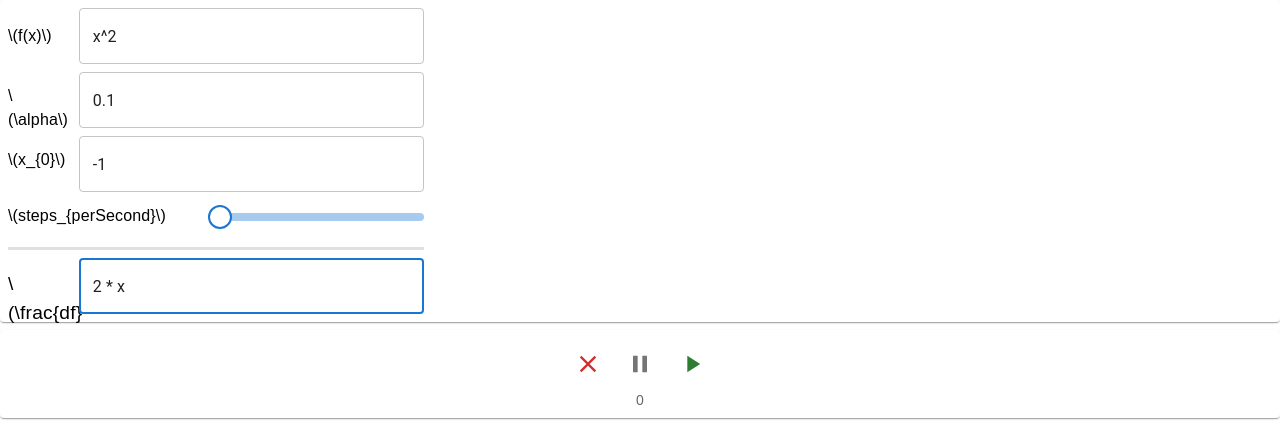
Scenario: Testing Gradient Descent 1D Pages › Visualization page › When handling events › When user enters input › Should update the function and its df
This screenshot has width=1280, height=437.
Replace the text in the 1st field with "x^3" at (251, 36), box [79,8,424,64]
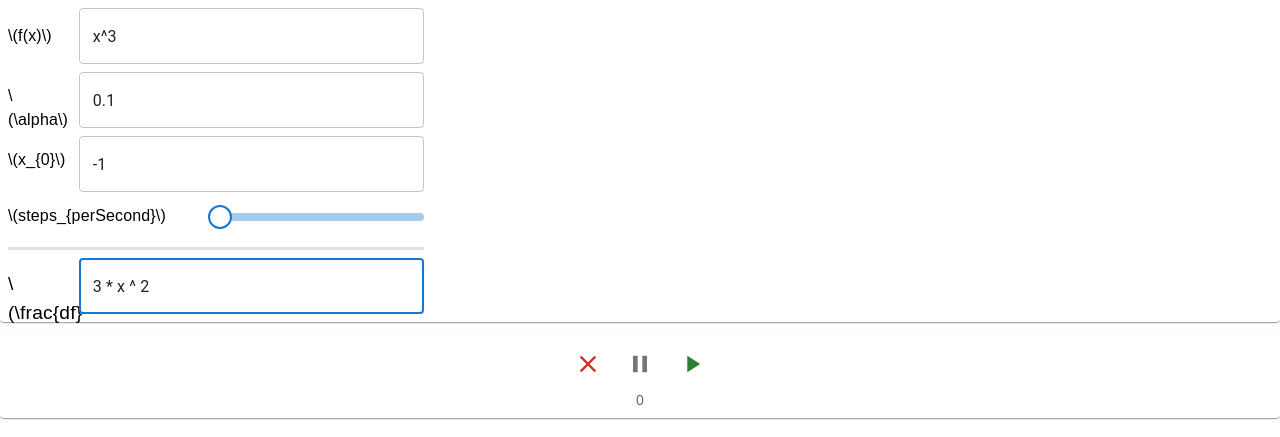
Result: the 2nd field holds "3 * x ^ 2" at [79,258,424,314]
